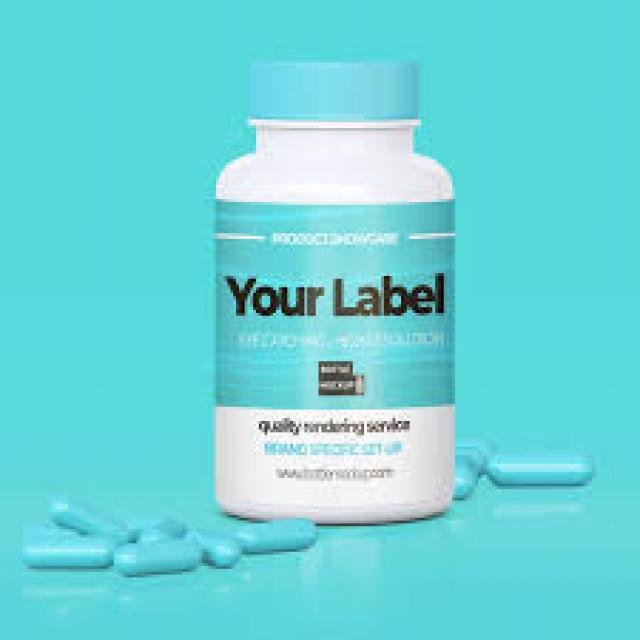jar: (213, 57, 455, 529)
